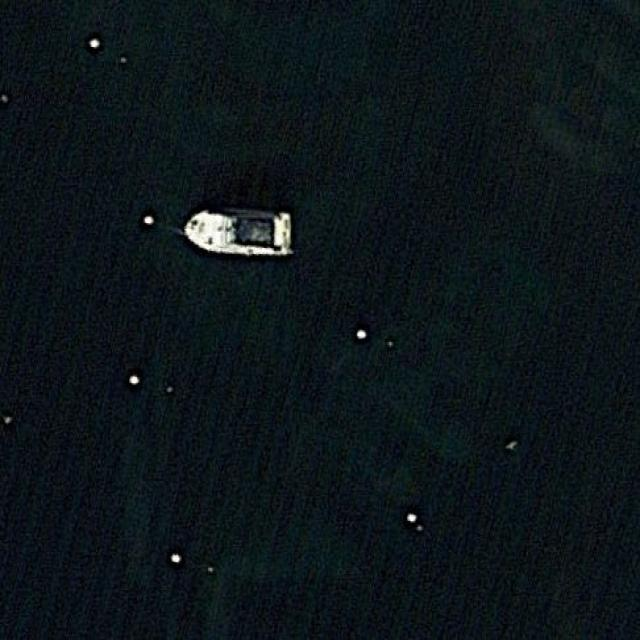ship: (180, 200, 295, 260)
